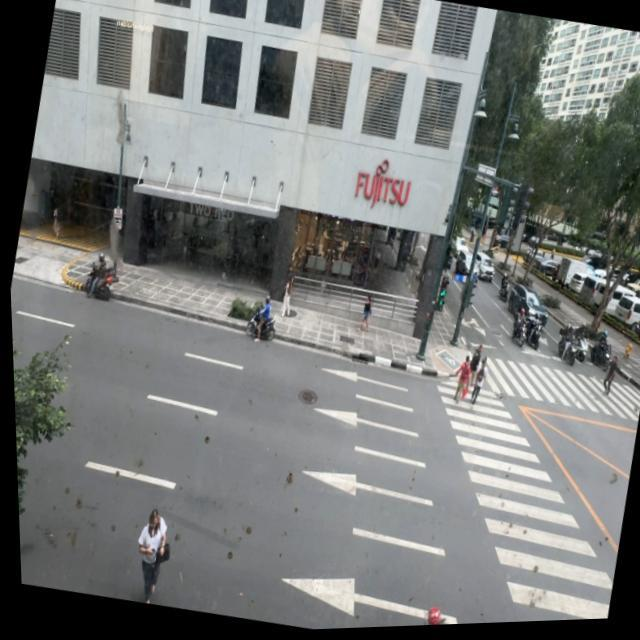jaywalking: (126, 508, 177, 606)
